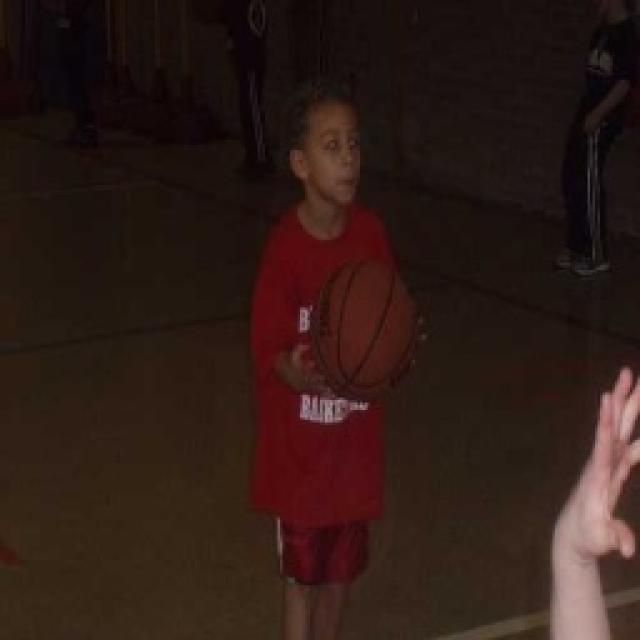basketball: (310, 266, 412, 388)
